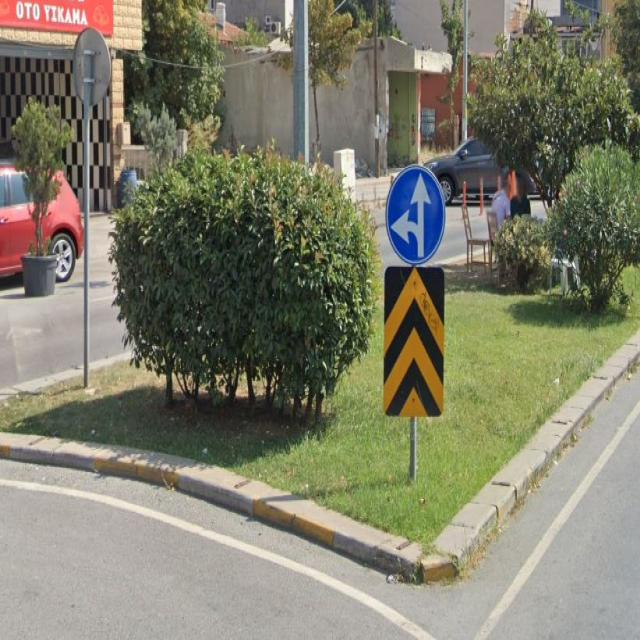ilerisol: (386, 166, 445, 264)
